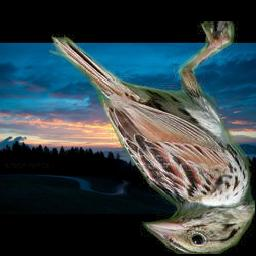Sparrow: (49, 22, 255, 255)
